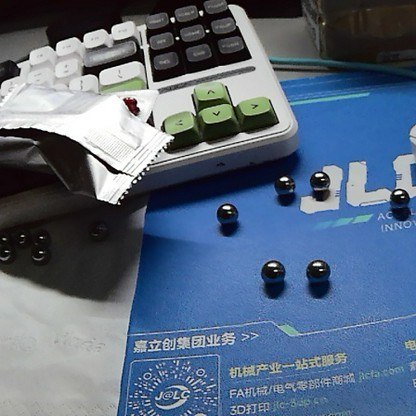ironball: (211, 200, 243, 233), (255, 253, 283, 290), (385, 185, 415, 215), (301, 253, 328, 286), (85, 219, 116, 247), (268, 170, 298, 195), (33, 227, 58, 251), (306, 168, 330, 192), (28, 246, 54, 266), (10, 229, 24, 245), (0, 246, 15, 259)
